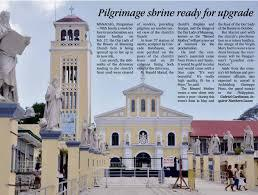manaoag_church_manaoag_pangasinan: (42, 3, 194, 176)
